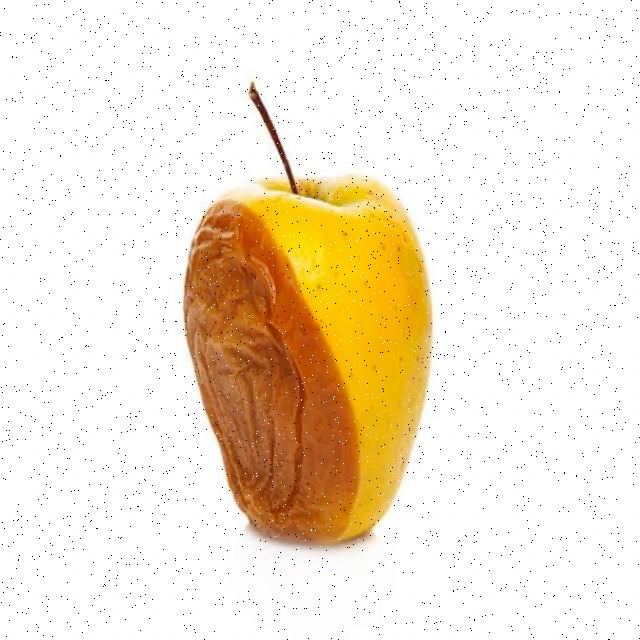ROT: (179, 149, 465, 572)
